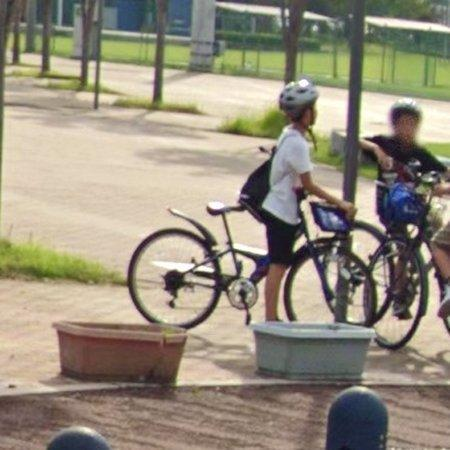bicycles: (127, 158, 273, 329), (284, 191, 380, 327), (370, 236, 430, 351)
